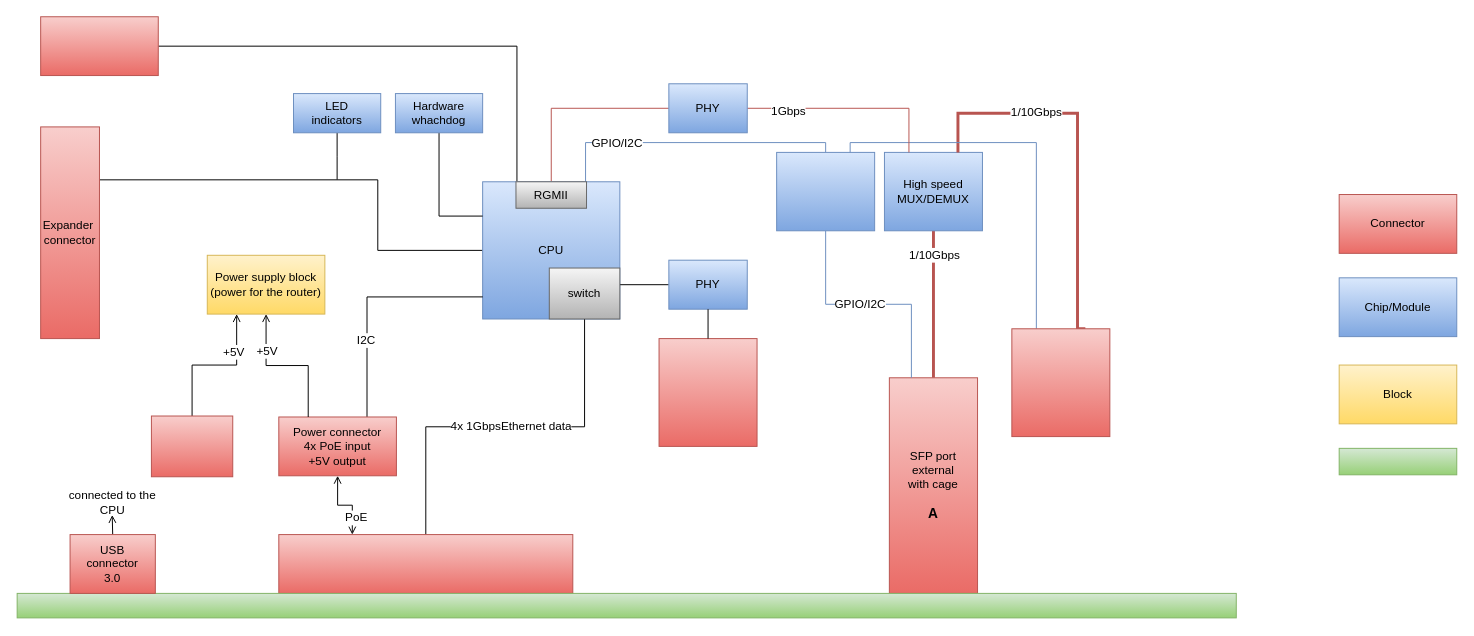
The diagram is 1474 pixels wide and 636 high, and some of its shapes have lost their labels. The centre of each missing label's shape, as x and y in pixels:
+5V connector input: [191,446]
4x Ethernet prot: [425,563]
Board edge: [1397,461]
Connector side: [626,605]
Low speed MUX/DEMUX: [825,191]
SD card socket: [99,46]
SFP port internal (connector only ) B: [707,392]
SFP port internal (connector only ) C: [1060,382]
